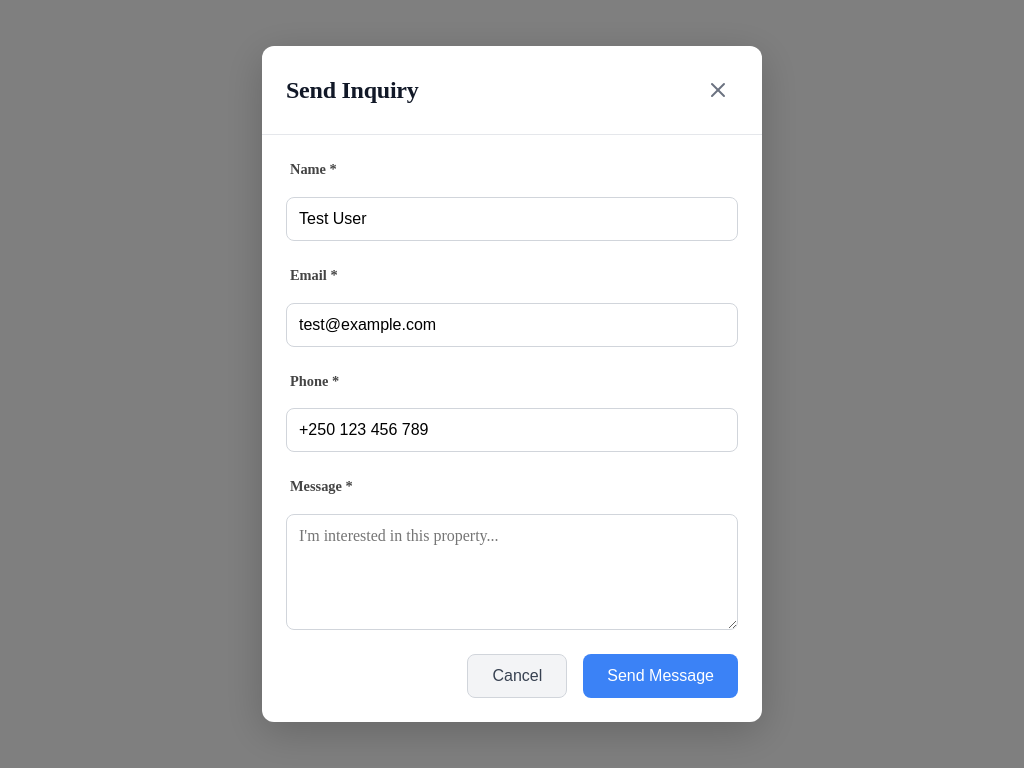
Test: InquiryForm Component › displays validation errors for empty required fields
Clear the field labelled "Name *" at point(512, 219), box [286,197,738,241]
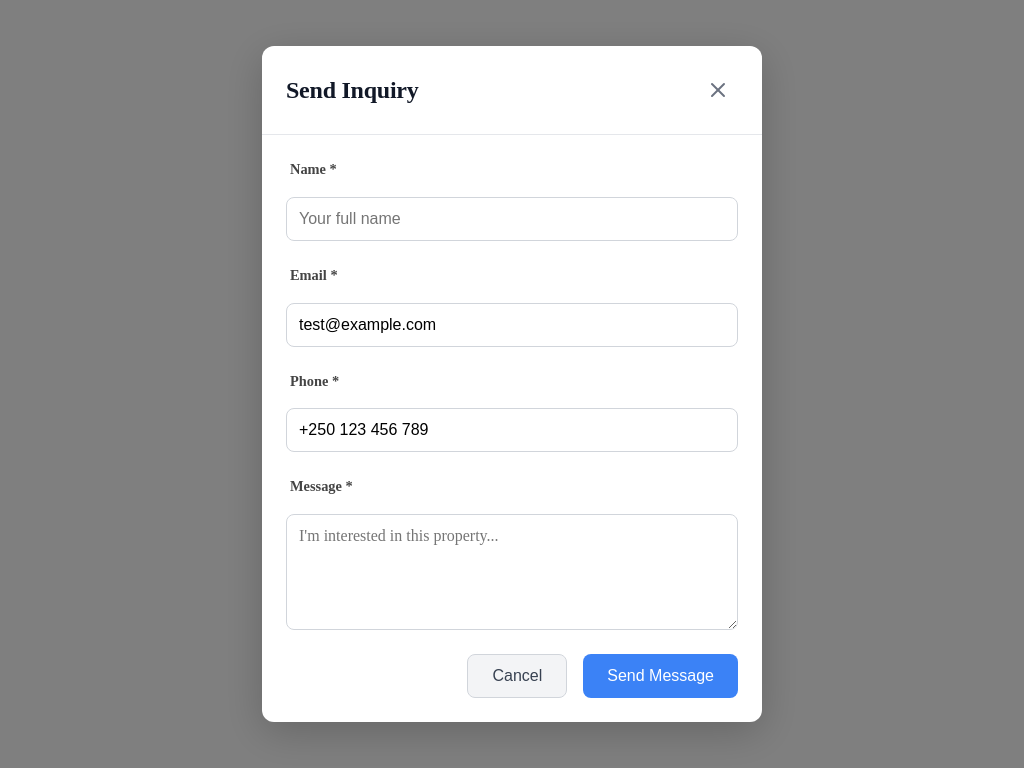
Clear the field labelled "Email *" at point(512, 324), box [286,302,738,346]
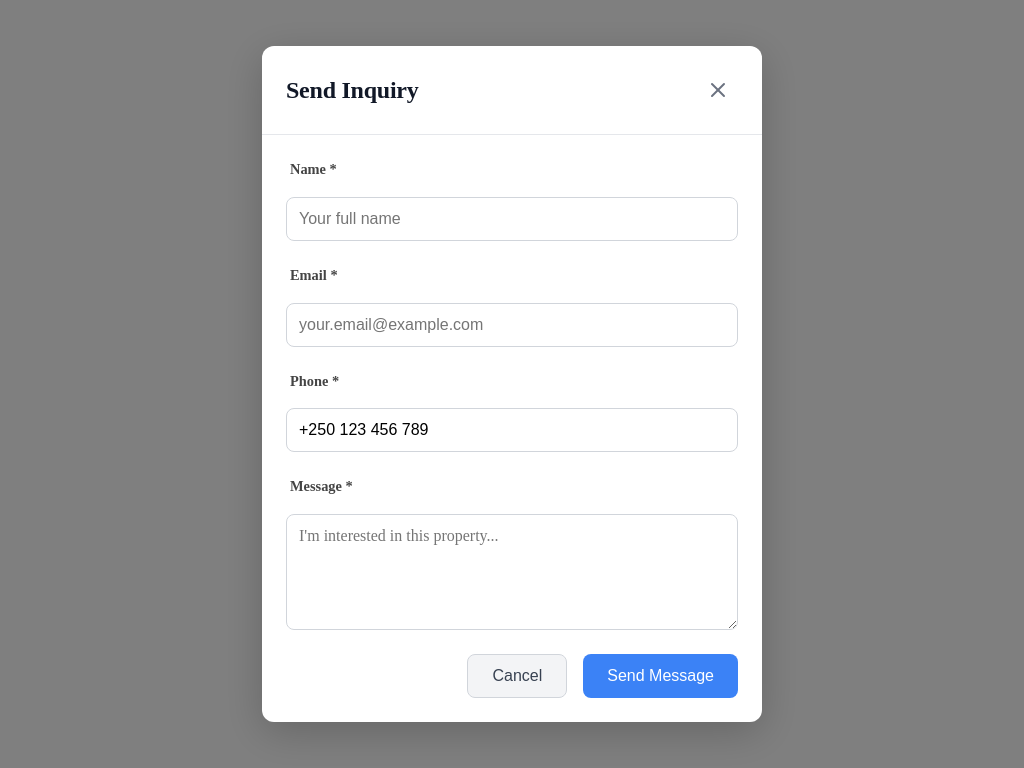
Clear the field labelled "Phone *" at point(512, 430), box [286,408,738,452]
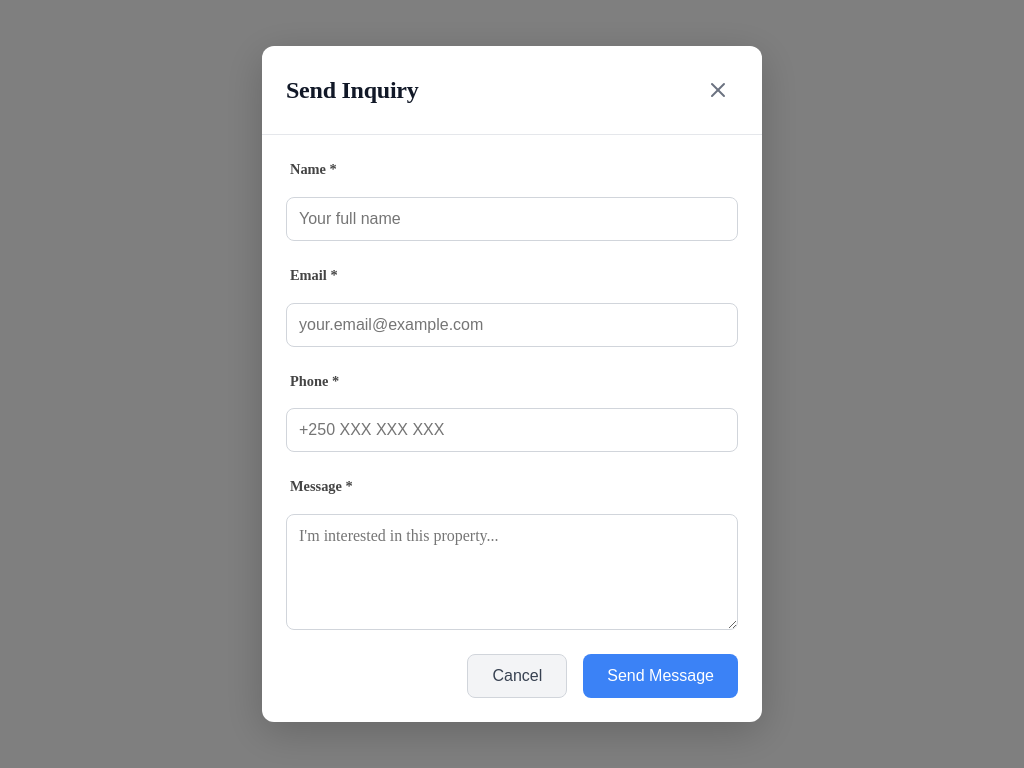
Click the button "Send Message".
click(661, 676)  # box [583,654,738,698]
(page scrolled)
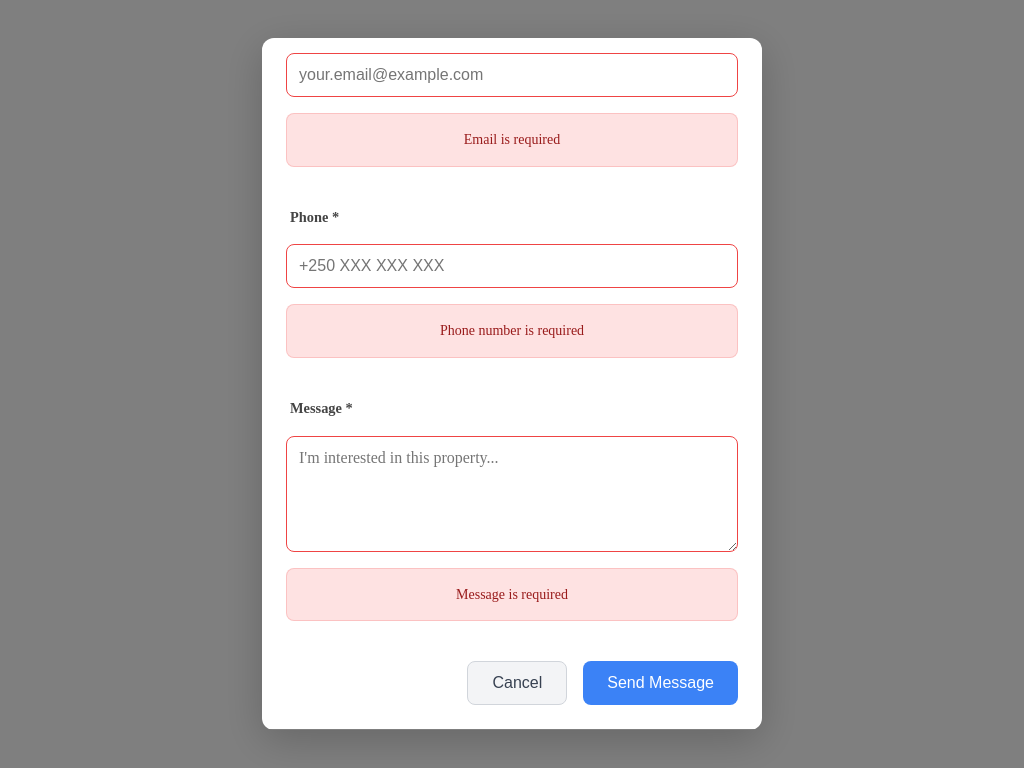
Expected: the text "Email is required" is shown, [286,113,738,167]
Expected: the text "Phone number is required" is shown, [286,304,738,358]
Expected: the text "Message is required" is shown, [286,568,738,621]
